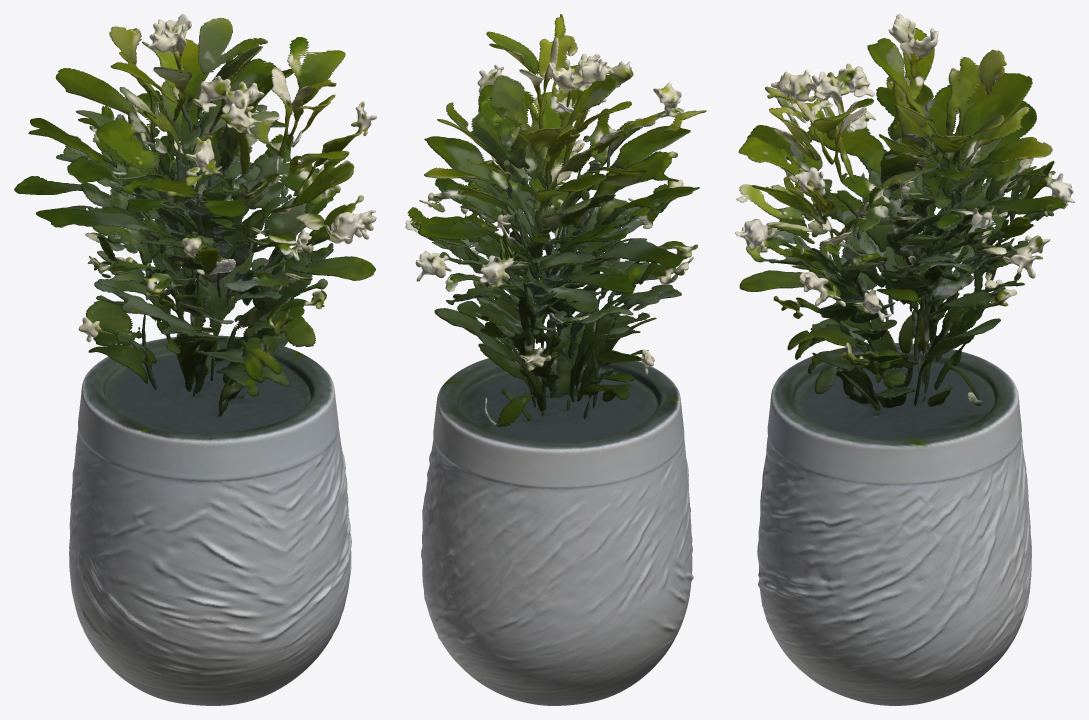
The model's file is 123_Original_13.glb.
The picture shows the model from 3 angles, left to right: view 1: azimuth 30°, elevation 25°; view 2: azimuth 150°, elevation 25°; view 3: azimuth 270°, elevation 25°; orthographic projection. The views are drawn at different scales.
Visible parts, largest first — view 1: tripo_node_c179fe2b-4cbc-4507-b634-55b5f94c14fa; view 2: tripo_node_c179fe2b-4cbc-4507-b634-55b5f94c14fa; view 3: tripo_node_c179fe2b-4cbc-4507-b634-55b5f94c14fa.
Boxes of the visible parts, <box> form: tripo_node_c179fe2b-4cbc-4507-b634-55b5f94c14fa: <box>14,14,376,705</box>; tripo_node_c179fe2b-4cbc-4507-b634-55b5f94c14fa: <box>405,14,706,705</box>; tripo_node_c179fe2b-4cbc-4507-b634-55b5f94c14fa: <box>735,14,1074,705</box>.
Bounding box in the file's own units: 0.436 × 1 × 0.4759.
Materials: 1 (1 with a texture image).
